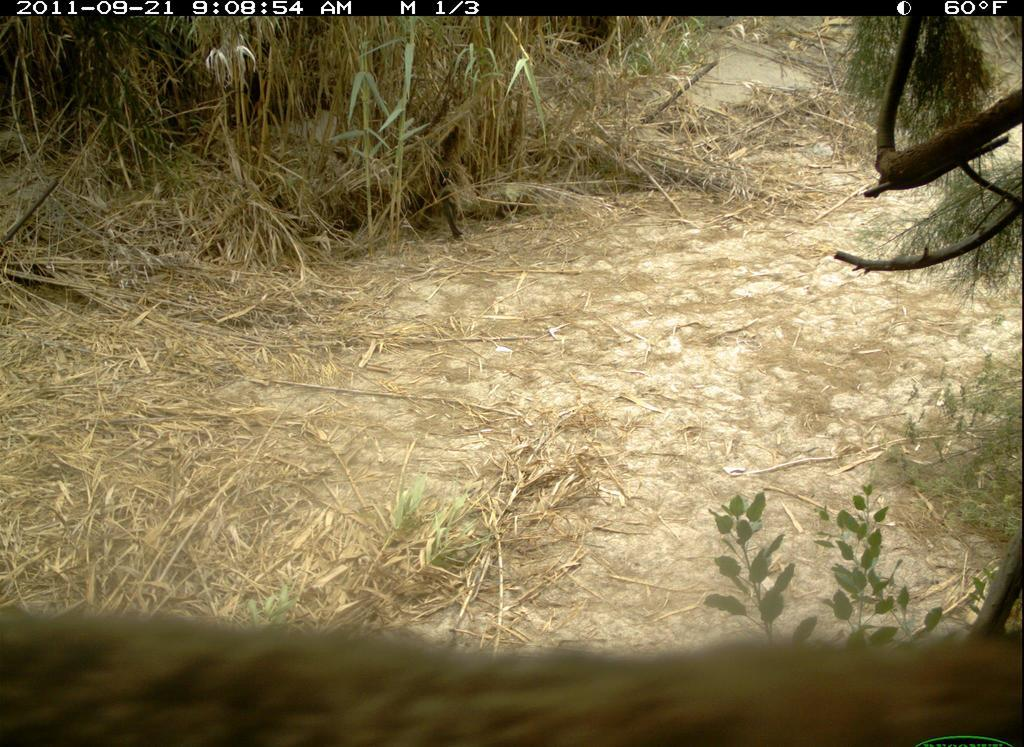bobcat: (4, 602, 1023, 747)
